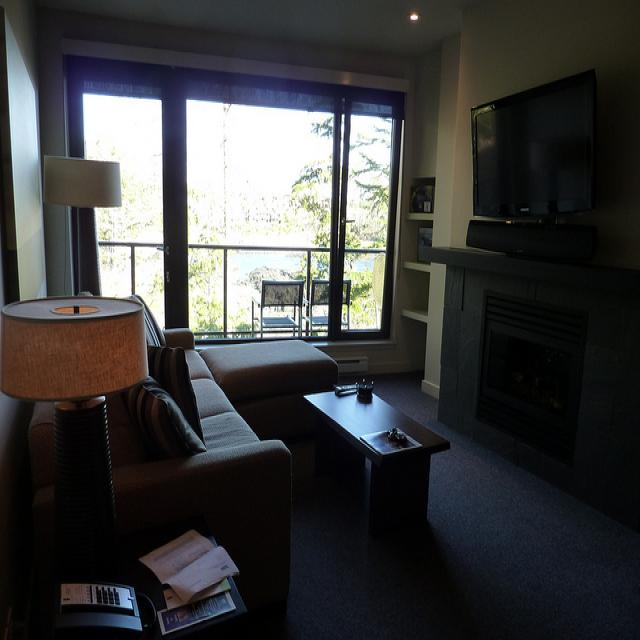Table: (429, 225, 640, 523), (301, 358, 445, 553)
chair: (0, 287, 332, 577), (309, 243, 365, 331), (255, 257, 310, 338)
